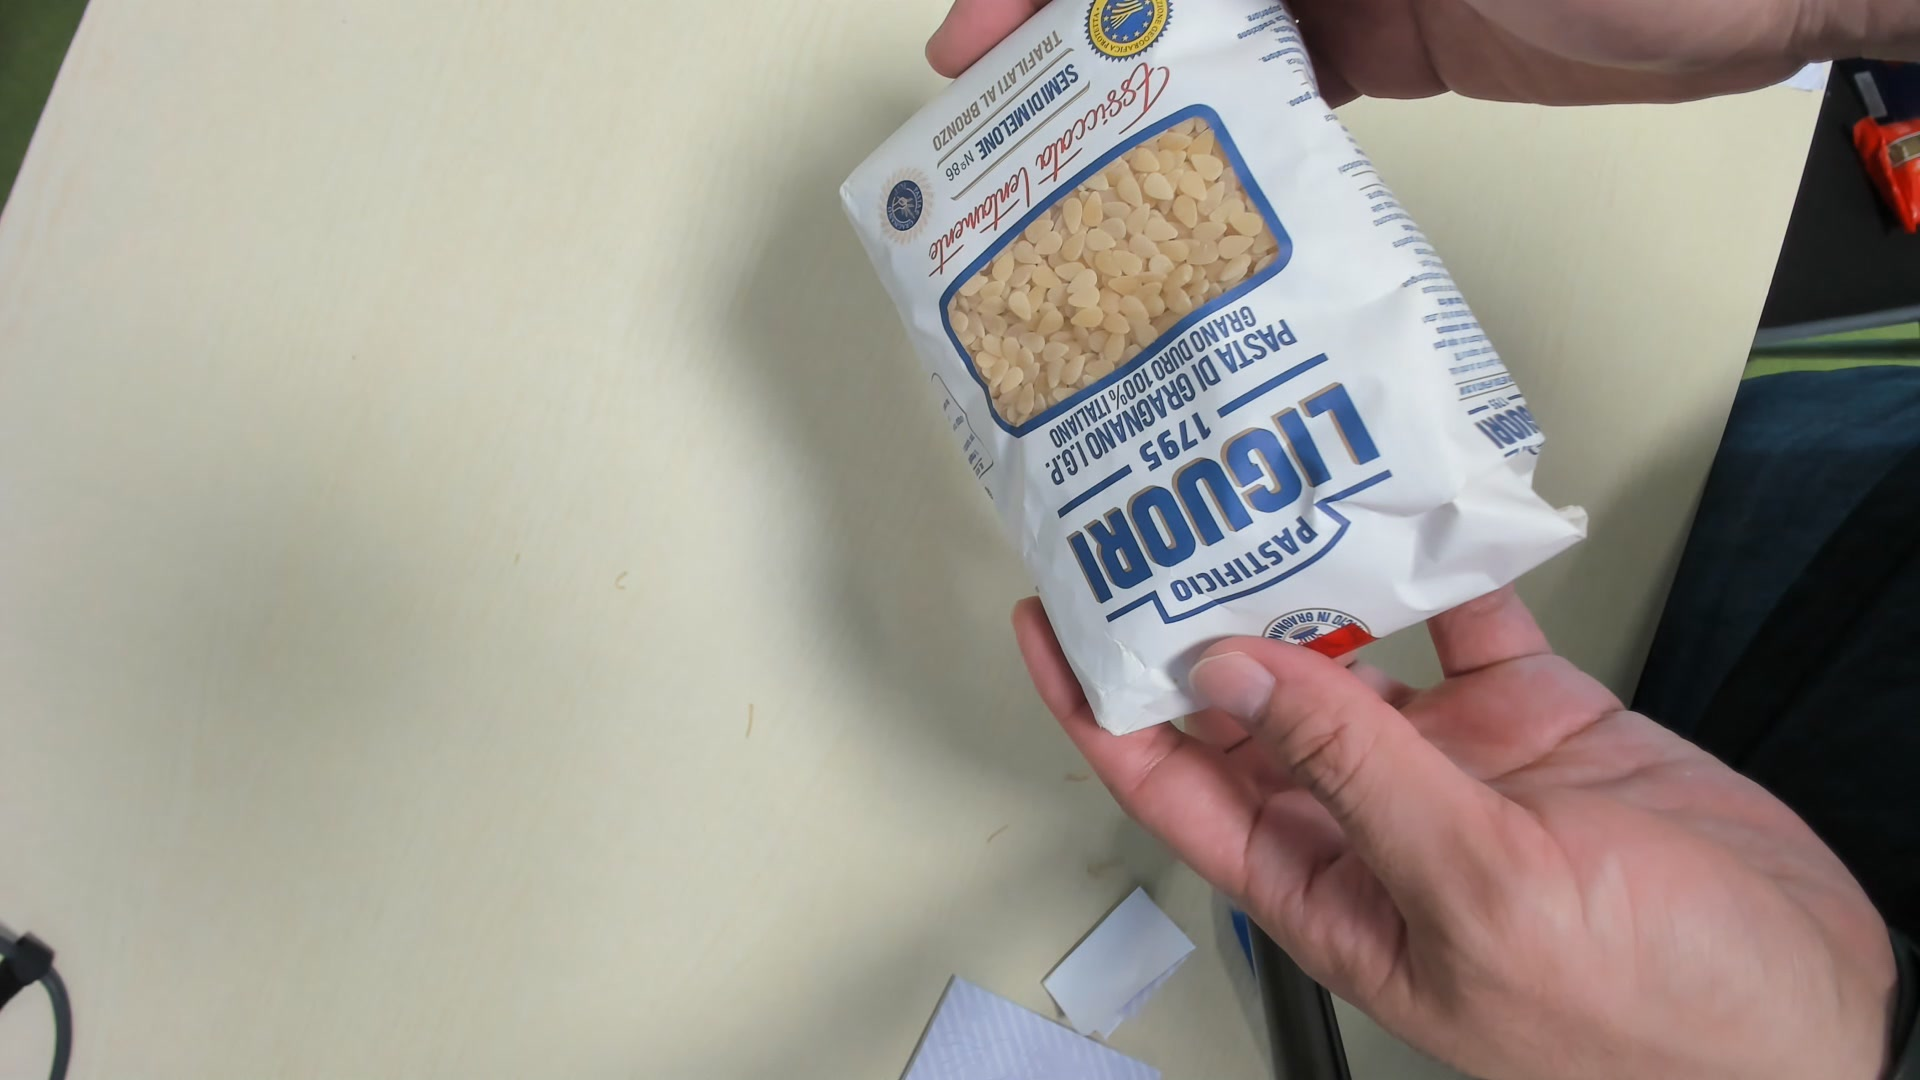Pasta_500-599g_NonHalal_NonHealthy: (835, 5, 1597, 738)
